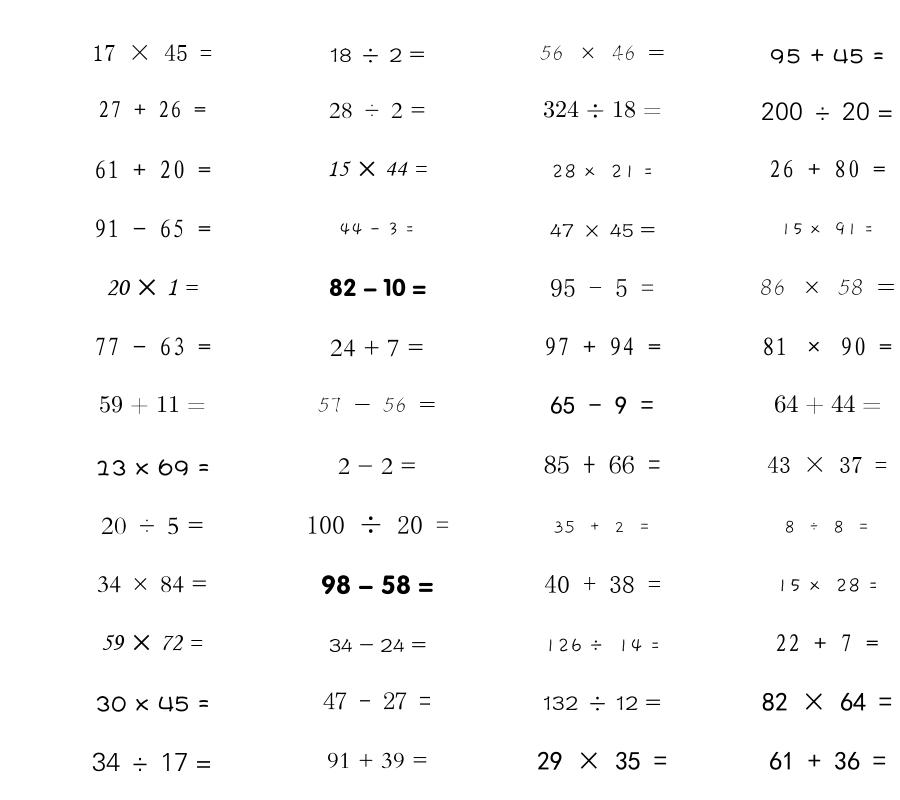MQ: (306, 515, 449, 534), (761, 102, 893, 121), (762, 337, 892, 356), (762, 692, 892, 711), (537, 751, 667, 770), (92, 752, 212, 772), (321, 575, 434, 595), (94, 160, 211, 179), (94, 219, 211, 238), (94, 337, 211, 356), (544, 337, 661, 356), (544, 455, 661, 474), (769, 751, 886, 770), (760, 279, 895, 295), (543, 100, 662, 118), (774, 395, 881, 415), (769, 160, 886, 178), (544, 575, 661, 593), (92, 44, 212, 61), (767, 456, 887, 473), (99, 395, 206, 414), (540, 45, 665, 61), (95, 459, 210, 476), (98, 100, 206, 118), (323, 692, 431, 710), (318, 397, 436, 413), (97, 576, 208, 593), (550, 279, 654, 297), (550, 396, 654, 414), (775, 634, 879, 652), (101, 517, 204, 535), (329, 278, 426, 297), (95, 696, 210, 712), (770, 48, 884, 64), (543, 696, 661, 711), (544, 638, 660, 653), (101, 634, 203, 651), (327, 752, 428, 769), (330, 339, 424, 357), (329, 102, 426, 119), (327, 161, 427, 177), (550, 223, 655, 238), (106, 279, 198, 296), (551, 164, 653, 179), (776, 578, 878, 593), (329, 638, 426, 653), (330, 48, 425, 63), (553, 520, 651, 534), (780, 222, 874, 236), (338, 458, 417, 474), (784, 520, 870, 534), (339, 222, 415, 236)
